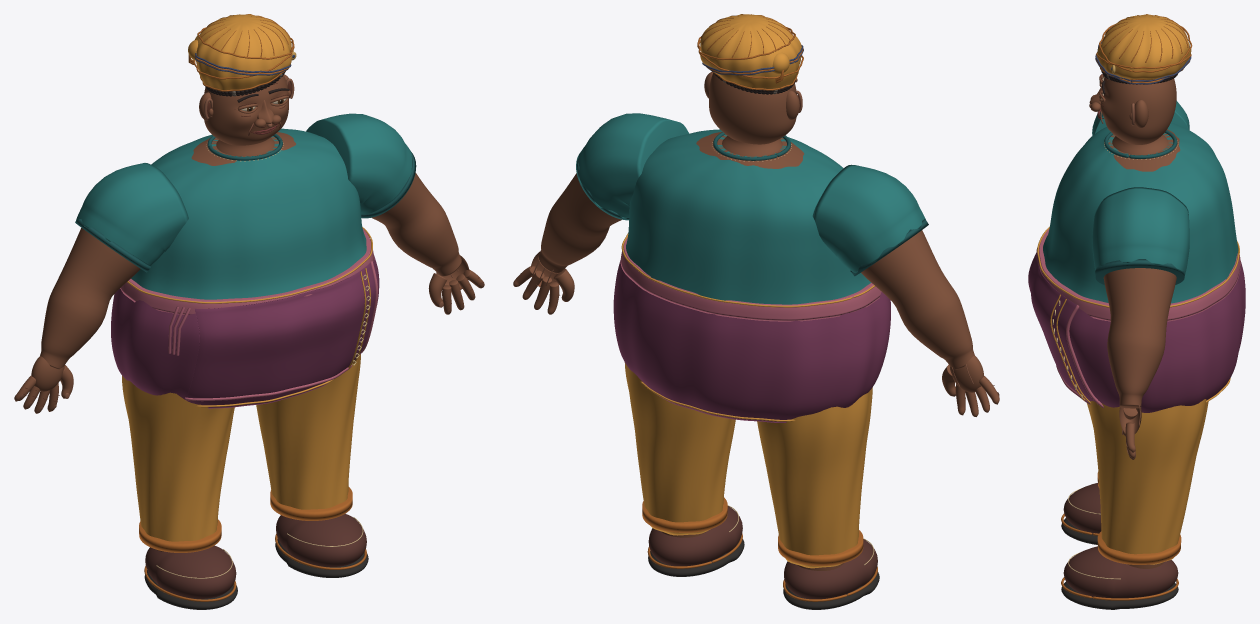
3 renders of one model, left to right at view 1: azimuth 30°, elevation 25°; view 2: azimuth 150°, elevation 25°; view 3: azimuth 270°, elevation 25°, orthographic. The views are drawn at different scales.
Parts seen in each view (by area): view 1: 30 Fitted petrol blouse, 43 Curved overlapping wrap panel, 10 L trouser, 10 R trouser, 40 Woven waist wrap, 21 L short cotton sleeve, 20 L arm, 21 R short cotton sleeve, 20 R arm, 14 R leather shoe, 14 L leather shoe, 63 Headwrap gathered crown (+14 smaller); view 2: 30 Fitted petrol blouse, 40 Woven waist wrap, 10 L trouser, 10 R trouser, 21 L short cotton sleeve, 20 L arm, 21 R short cotton sleeve, 41 Madder wrap waistband, 20 R arm, 50 Sculpted round head, 63 Headwrap gathered crown, 14 R leather shoe (+12 smaller); view 3: 30 Fitted petrol blouse, 10 R trouser, 40 Woven waist wrap, 20 R arm, 21 R short cotton sleeve, 14 R leather shoe, 63 Headwrap gathered crown, 50 Sculpted round head, 43 Curved overlapping wrap panel, 41 Madder wrap waistband, 14 L leather shoe, 13 R shoe sole (+17 smaller).
Boxes of the visible parts, box(x1,y1,x2,y2) form: 30 Fitted petrol blouse: box(131, 128, 366, 299); 43 Curved overlapping wrap panel: box(186, 262, 375, 398); 10 L trouser: box(122, 375, 234, 541); 10 R trouser: box(256, 354, 360, 509); 40 Woven waist wrap: box(111, 255, 379, 408); 21 L short cotton sleeve: box(76, 163, 188, 266); 20 L arm: box(40, 228, 140, 369); 21 R short cotton sleeve: box(306, 113, 412, 214); 20 R arm: box(371, 173, 461, 276); 14 R leather shoe: box(276, 513, 366, 566); 14 L leather shoe: box(145, 545, 236, 598); 63 Headwrap gathered crown: box(196, 14, 291, 77); 30 Fitted petrol blouse: box(626, 129, 871, 304); 40 Woven waist wrap: box(613, 260, 890, 422); 10 L trouser: box(757, 387, 872, 568); 10 R trouser: box(624, 362, 735, 535); 21 L short cotton sleeve: box(812, 164, 925, 273); 20 L arm: box(861, 230, 974, 369); 21 R short cotton sleeve: box(578, 113, 688, 218); 41 Madder wrap waistband: box(620, 237, 881, 321); 20 R arm: box(538, 173, 621, 273); 50 Sculpted round head: box(709, 73, 796, 144); 63 Headwrap gathered crown: box(700, 14, 801, 77); 14 R leather shoe: box(648, 506, 742, 566); 30 Fitted petrol blouse: box(1043, 122, 1238, 303); 10 R trouser: box(1087, 399, 1208, 564); 40 Woven waist wrap: box(1069, 261, 1245, 412); 20 R arm: box(1103, 268, 1176, 408); 21 R short cotton sleeve: box(1092, 187, 1189, 275); 14 R leather shoe: box(1063, 546, 1178, 598); 63 Headwrap gathered crown: box(1101, 14, 1189, 67); 50 Sculpted round head: box(1100, 77, 1176, 144); 43 Curved overlapping wrap panel: box(1028, 248, 1094, 401); 41 Madder wrap waistband: box(1038, 229, 1240, 321); 14 L leather shoe: box(1063, 483, 1101, 533); 13 R shoe sole: box(1061, 582, 1178, 609).
Bounding box in the file's own units: 1.64 × 1.83 × 0.6601.
